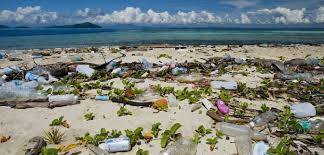garbage: (2, 53, 324, 154)
